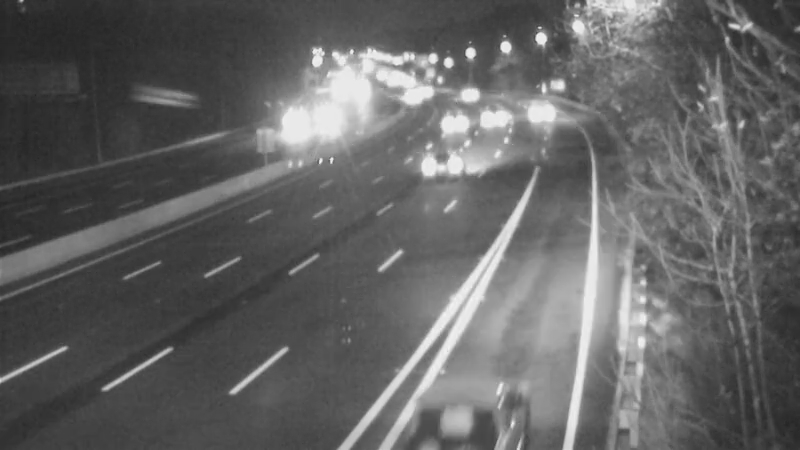vehicle: (411, 353, 521, 450), (396, 129, 476, 209), (442, 65, 492, 115), (380, 74, 430, 124), (522, 87, 572, 137), (471, 91, 521, 141), (419, 98, 469, 148), (280, 100, 330, 150), (309, 92, 359, 142)
